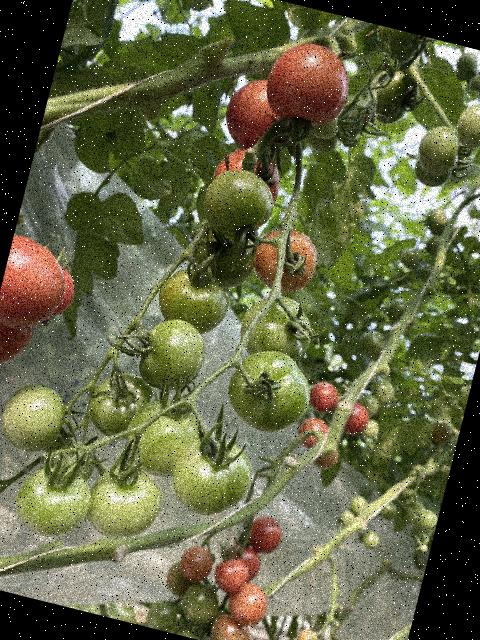l_fully_ripened: (259, 35, 357, 131), (0, 233, 78, 339), (218, 71, 304, 159), (211, 141, 288, 202), (0, 316, 36, 374), (244, 511, 286, 557), (219, 541, 264, 583), (210, 554, 252, 597), (307, 379, 341, 414), (343, 400, 373, 438)
l_green: (220, 341, 320, 440), (163, 427, 261, 525), (117, 394, 211, 485), (81, 458, 168, 549), (7, 459, 97, 546), (196, 161, 282, 246), (81, 364, 164, 448), (234, 288, 320, 368), (132, 312, 211, 398), (152, 261, 236, 338), (0, 376, 72, 458), (186, 221, 262, 294), (363, 62, 418, 128), (413, 121, 466, 180), (38, 434, 99, 480), (332, 93, 374, 146), (178, 579, 224, 626), (371, 25, 420, 66), (452, 100, 480, 150), (144, 595, 180, 633), (303, 110, 342, 144), (301, 124, 342, 156), (411, 159, 452, 191), (173, 628, 221, 640)
l_half_ripened: (247, 219, 323, 299), (224, 578, 272, 630), (176, 541, 217, 585), (208, 612, 256, 640)
